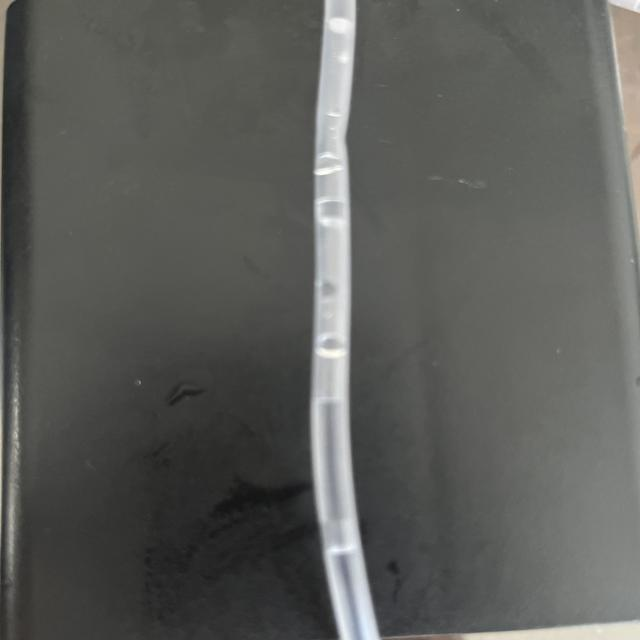bubble: (313, 504, 389, 564), (318, 10, 367, 72), (304, 273, 365, 314), (299, 330, 370, 361), (299, 192, 358, 228), (299, 100, 358, 128), (302, 153, 354, 177)
